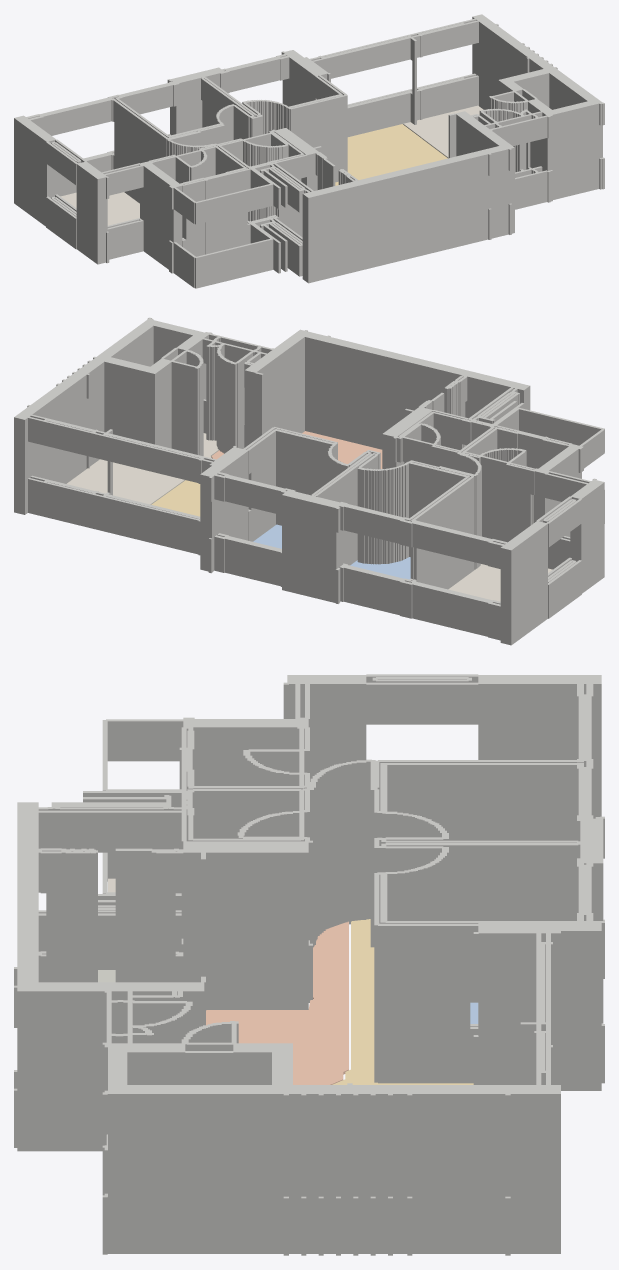
3 views of the same model, one above another, from view 1: azimuth 30°, elevation 25°; view 2: azimuth 150°, elevation 25°; view 3: azimuth 270°, elevation 25° (orthographic). The views are drawn at different scales.
Parts seen in each view (by area): view 1: walls, room:living:2, room:other:3, room:other:7; view 2: walls, room:other:3, room:other:7, room:living:2, room:kitchen:6, room:bedroom:0; view 3: walls, room:kitchen:6, room:living:2.
Boxes of the visible parts, <box> form: walls: <box>14,14,604,288</box>; room:living:2: <box>335,124,447,185</box>; room:other:3: <box>403,105,483,158</box>; room:other:7: <box>60,192,139,225</box>; walls: <box>14,317,604,645</box>; room:other:3: <box>67,433,218,504</box>; room:other:7: <box>448,564,552,601</box>; room:living:2: <box>151,480,200,516</box>; room:kitchen:6: <box>211,431,382,468</box>; room:bedroom:0: <box>350,557,410,579</box>; walls: <box>14,674,604,1255</box>; room:kitchen:6: <box>206,921,348,1084</box>; room:living:2: <box>332,919,473,1084</box>.
Size of the model in its own units: 15.77 by 2.8 by 9.36.
